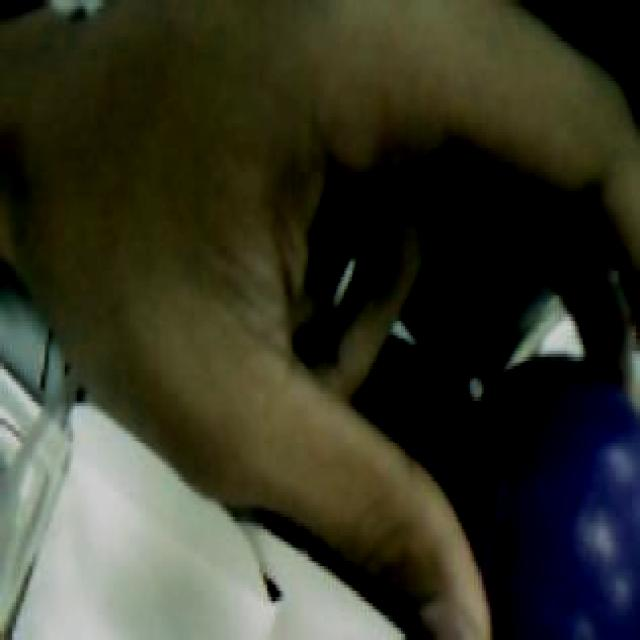BallPurple: (436, 351, 640, 640)
